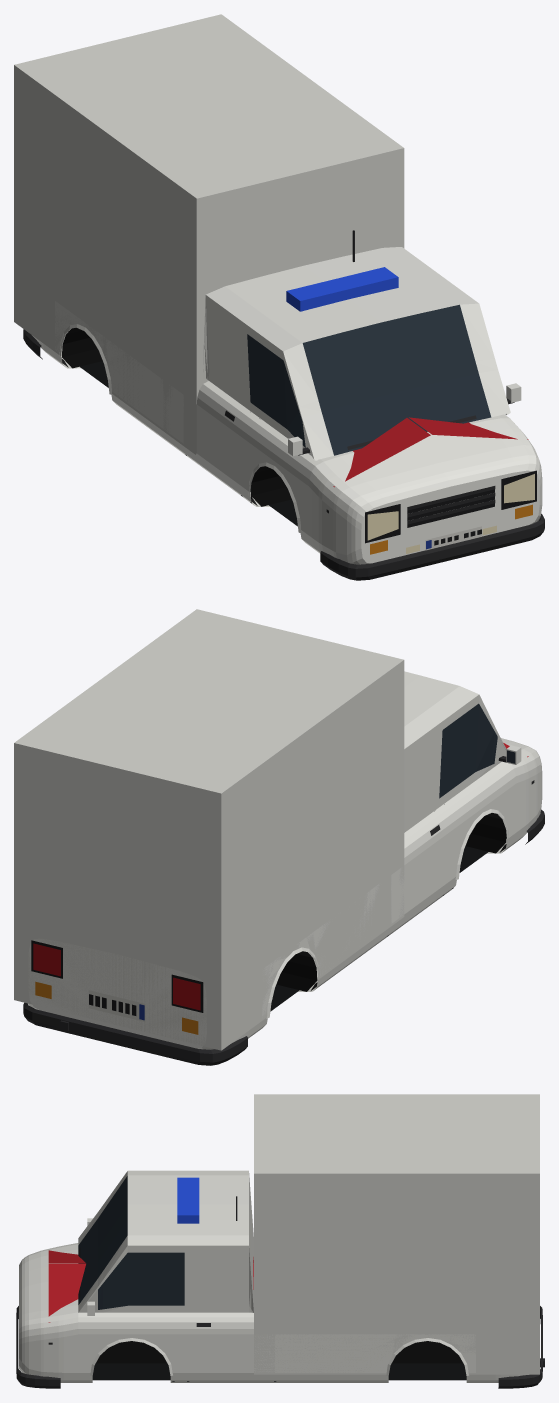
The model's file is tordo-socorro.glb.
3 views of the same model, one above another, from view 1: azimuth 30°, elevation 25°; view 2: azimuth 150°, elevation 25°; view 3: azimuth 270°, elevation 25° (orthographic). The views are drawn at different scales.
Visible parts, largest first — view 1: LOD0, door_RR, door_FR; view 2: LOD0, door_RR, door_FR; view 3: LOD0, door_RL, door_FL.
Boxes of the visible parts, x1,y1,x2,y2 form: LOD0: (14,14,544,580); door_RR: (183,295,246,493); door_FR: (239,325,257,500); LOD0: (14,609,544,1065); door_RR: (389,724,445,933); door_FR: (438,716,455,892); LOD0: (16,1094,544,1388); door_RL: (189,1245,274,1380); door_FL: (173,1245,186,1380).
Size of what is drawn, in the model's own units: 2.09 by 2.42 by 5.38.
